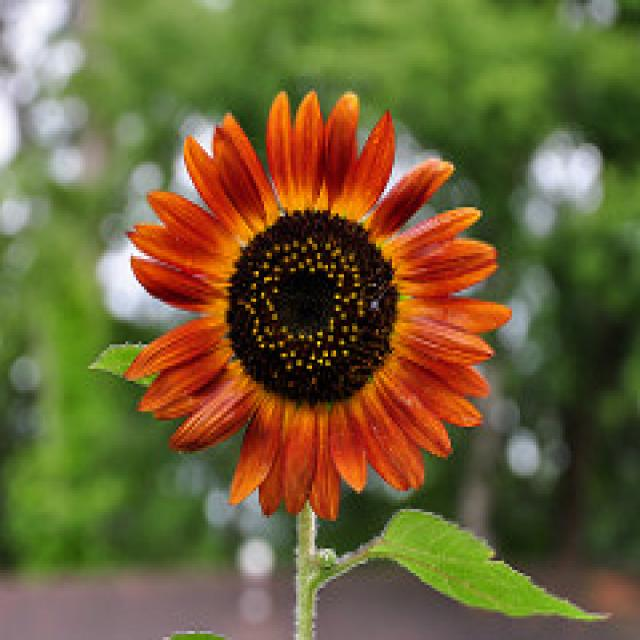sunflower: (118, 82, 518, 521)
